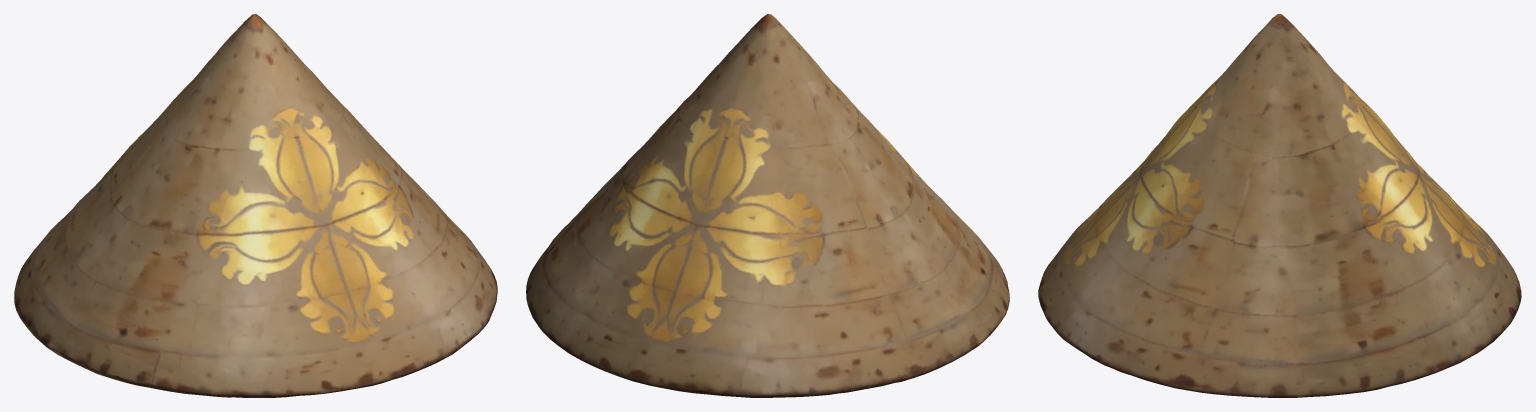
3 views of the same model, side by side, from view 1: azimuth 30°, elevation 25°; view 2: azimuth 150°, elevation 25°; view 3: azimuth 270°, elevation 25° (orthographic).
Parts seen in each view (by area): view 1: Mesh_0; view 2: Mesh_0; view 3: Mesh_0.
Boxes of the visible parts, box(x1,y1,x2,y2) form: Mesh_0: box(14, 14, 497, 397); Mesh_0: box(526, 14, 1009, 397); Mesh_0: box(1038, 14, 1521, 397).
Size of the model in its own units: 0.2782 by 0.18 by 0.2782.
Materials: 1 (1 with a texture image).
